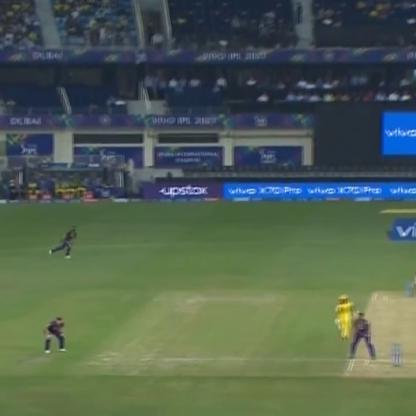pitch: (342, 283, 414, 376)
